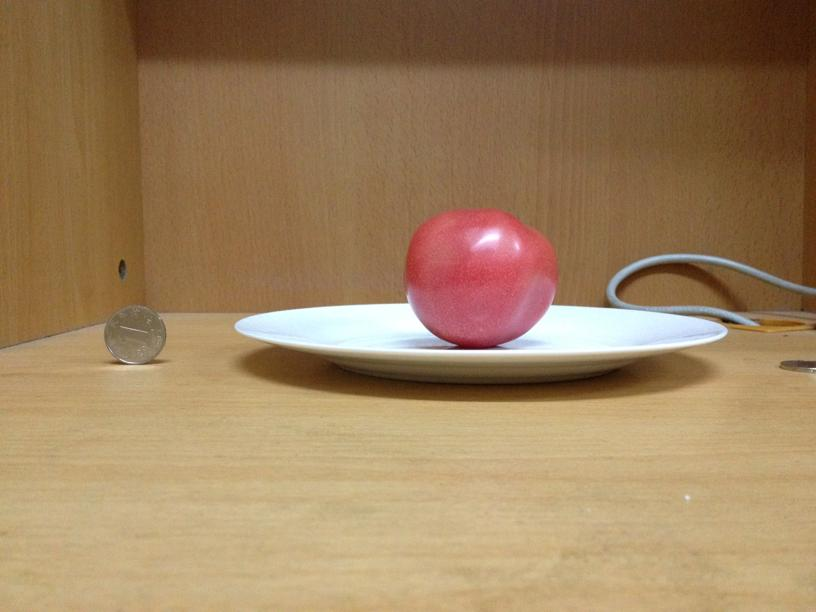coin: (103, 306, 166, 365)
tomato: (406, 207, 559, 344)
